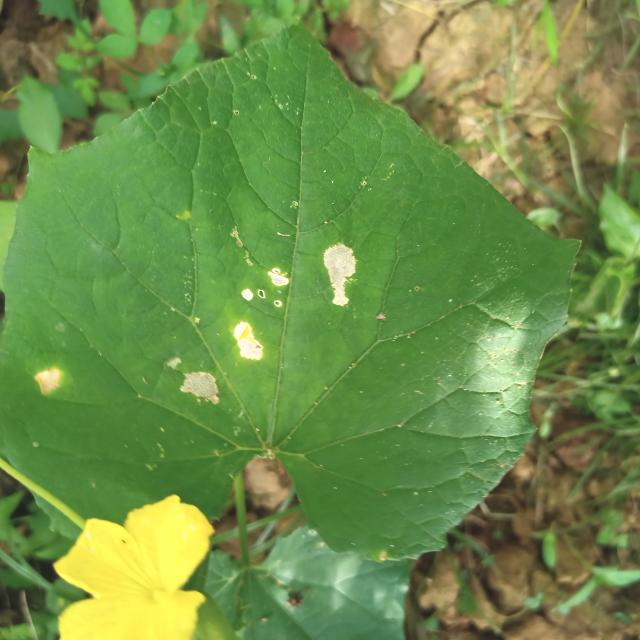disease_cucumber: (174, 240, 357, 405), (33, 368, 64, 396)
